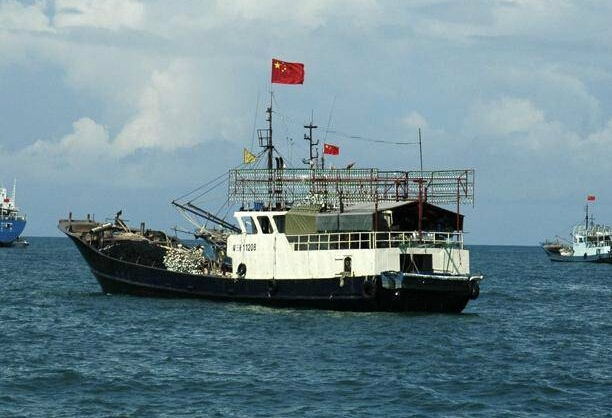otherboat: (69, 63, 497, 305), (541, 198, 612, 263)
